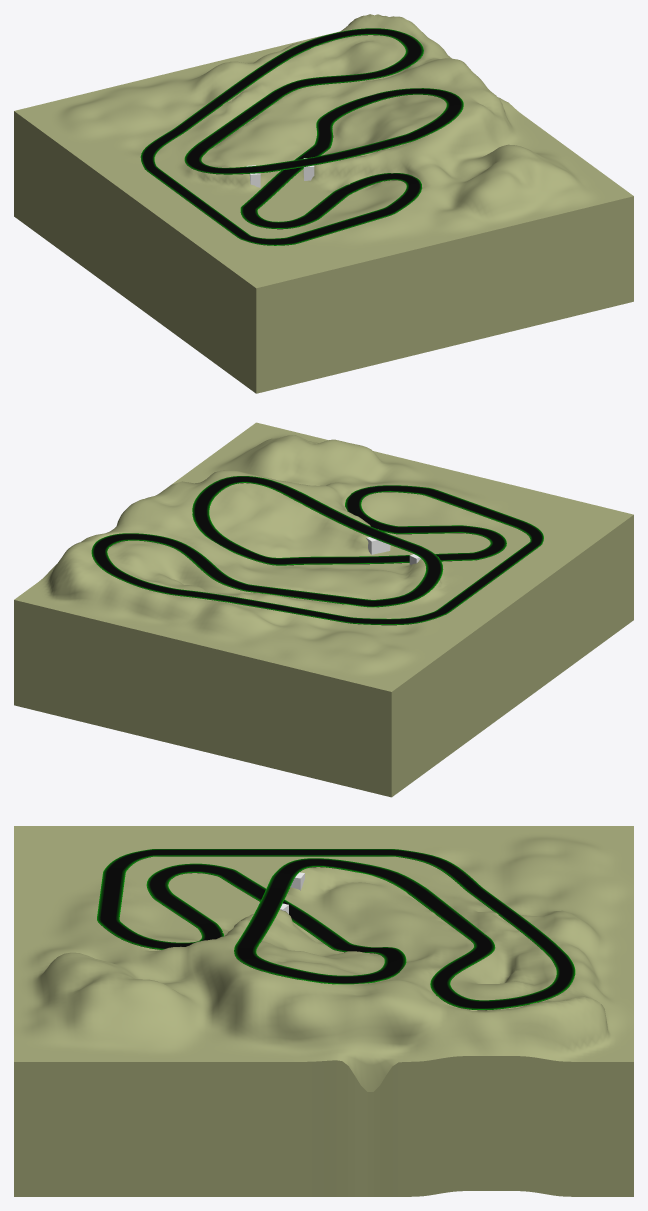
Rendered from track2.fbx.
3 views of the same model, one above another, from view 1: azimuth 30°, elevation 25°; view 2: azimuth 150°, elevation 25°; view 3: azimuth 270°, elevation 25° (orthographic). The views are drawn at different scales.
Parts seen in each view (by area): view 1: pPlane1, pCube6; view 2: pPlane1, pCube6; view 3: pPlane1, pCube6.
Part boxes in pixels (x1,y1,x2,y2): pPlane1: (14, 14, 633, 393); pCube6: (140, 28, 463, 245); pPlane1: (14, 422, 633, 797); pCube6: (91, 476, 543, 625); pPlane1: (14, 826, 633, 1196); pCube6: (97, 849, 575, 1010).
Bounding box in the file's own units: 901 × 321 × 1000.
